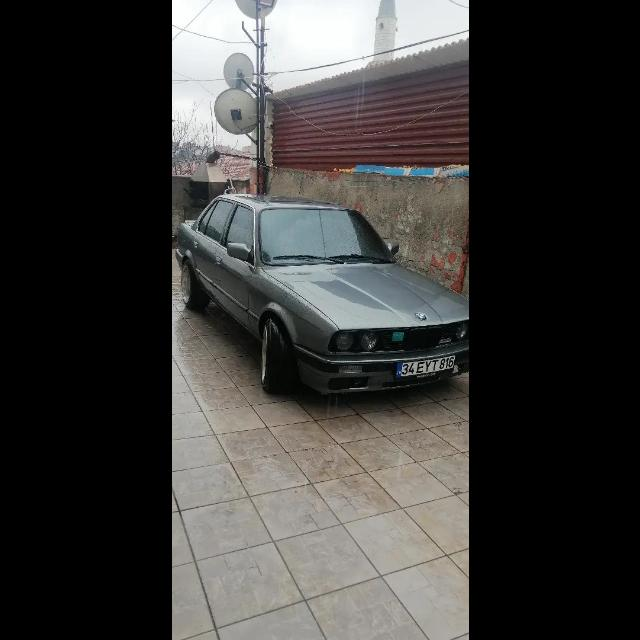Plaka: (396, 355, 456, 377)
